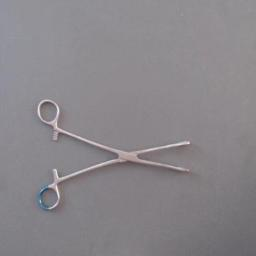Sponge Forceps: (33, 92, 197, 216)
